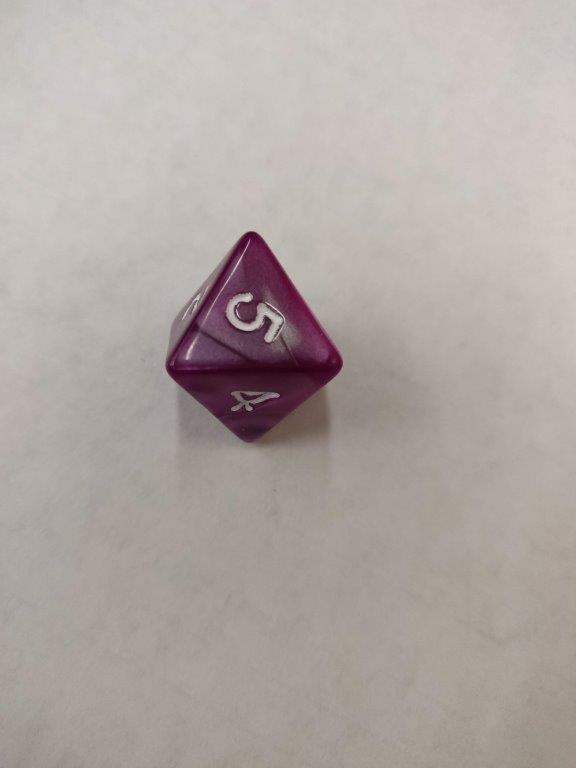d8-5: (166, 231, 344, 452)
